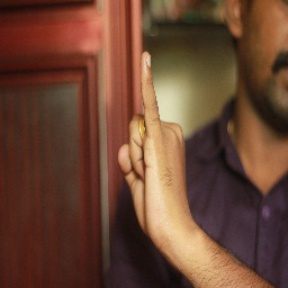I: (115, 50, 194, 227)
